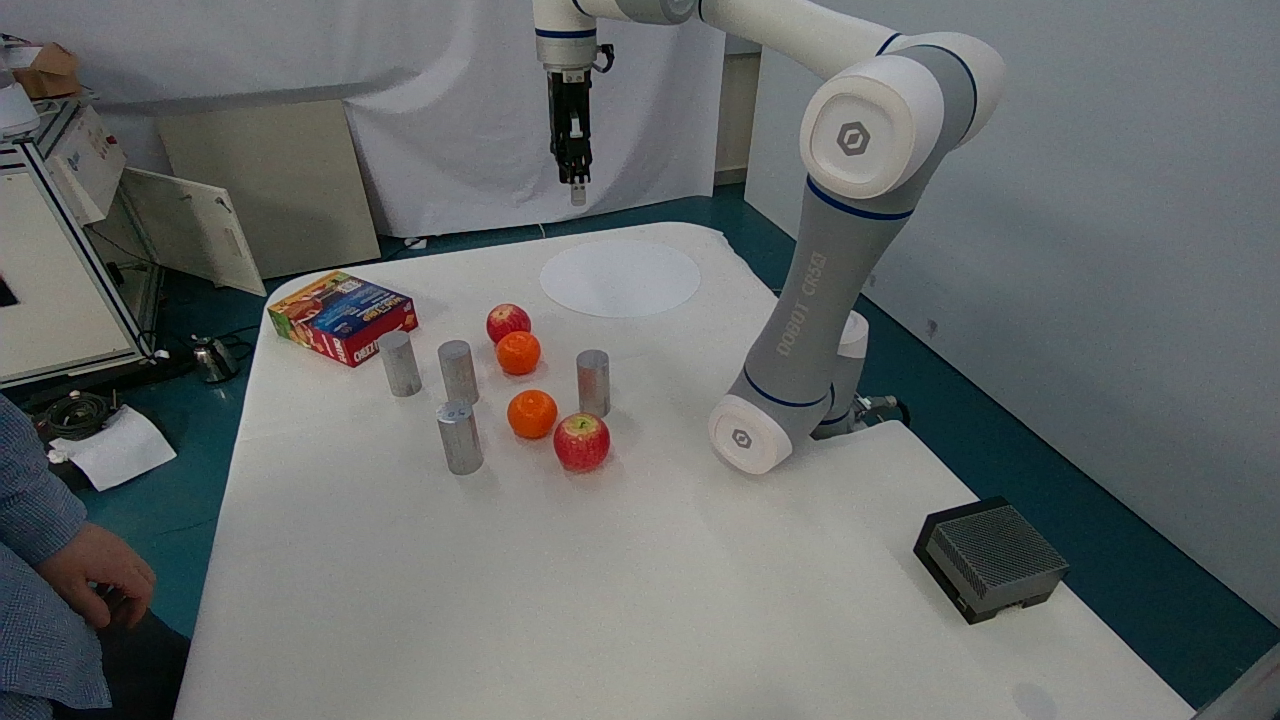apple: (540, 400, 623, 492), (467, 289, 541, 342)
metal rod: (424, 392, 491, 486), (359, 313, 428, 399), (570, 332, 625, 426), (423, 325, 483, 410)
orange: (503, 381, 559, 447), (480, 328, 551, 375)
